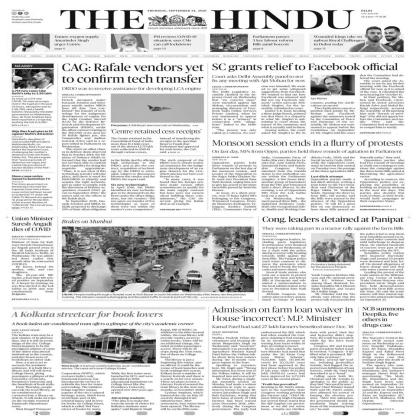Rafale: (148, 106, 174, 113)
